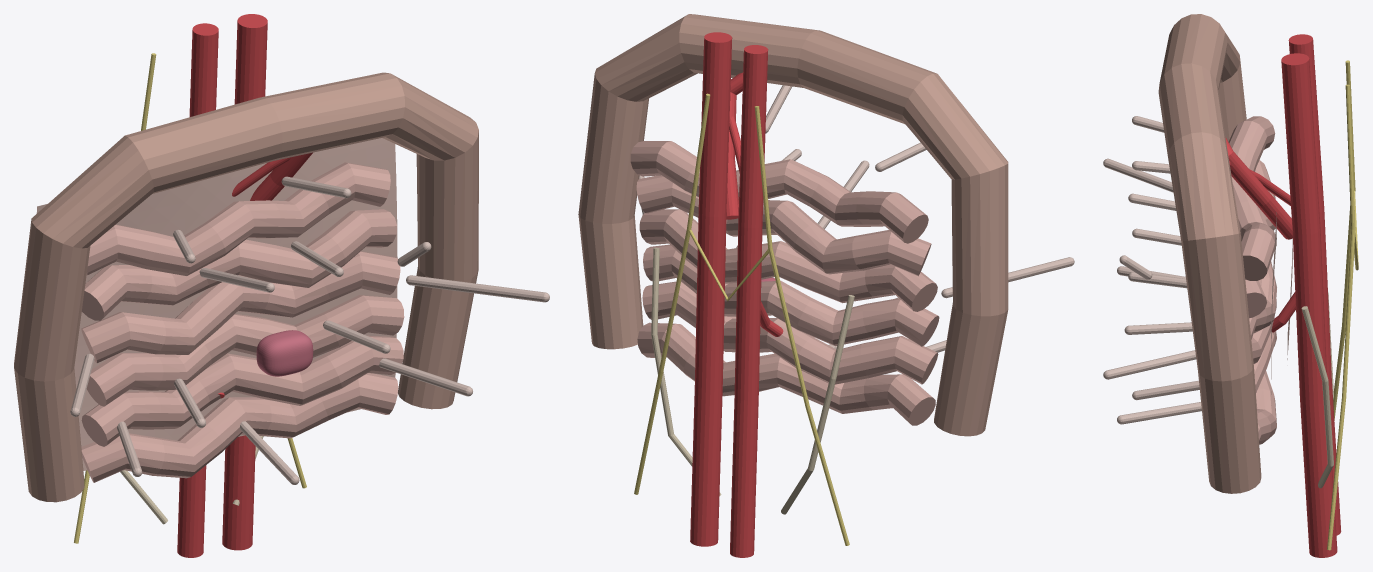
Rendered from dranmar_patient_bowel_scenario.glb.
3 views of the same model, side by side, from view 1: azimuth 30°, elevation 25°; view 2: azimuth 150°, elevation 25°; view 3: azimuth 270°, elevation 25° (orthographic). The views are drawn at different scales.
Visible parts, largest first — view 1: small_bowel, colon, mesentery, major_vessels, adhesions, bowel_lesion, nerves; view 2: colon, small_bowel, major_vessels, nerves, ureters, adhesions; view 3: colon, major_vessels, small_bowel, adhesions, nerves, ureters, mesentery.
Boxes of the visible parts, x1,y1,x2,y2 form: small_bowel: (81, 162, 404, 482); colon: (14, 72, 478, 502); mesentery: (36, 138, 397, 470); major_vessels: (177, 14, 312, 557); adhesions: (70, 176, 549, 484); bowel_lesion: (256, 330, 313, 376); nerves: (74, 53, 306, 543); colon: (578, 14, 1008, 436); small_bowel: (630, 141, 939, 425); major_vessels: (690, 32, 783, 557); nerves: (634, 93, 849, 545); ureters: (651, 247, 854, 514); adhesions: (639, 85, 1074, 352); colon: (1158, 14, 1261, 493); major_vessels: (1225, 34, 1341, 557); small_bowel: (1228, 116, 1276, 444); adhesions: (1103, 116, 1201, 424); nerves: (1327, 60, 1358, 550); ureters: (1301, 292, 1333, 488); mesentery: (1271, 207, 1292, 405).
Bounding box in the file's own units: 0.2721 × 0.2909 × 0.1363.
